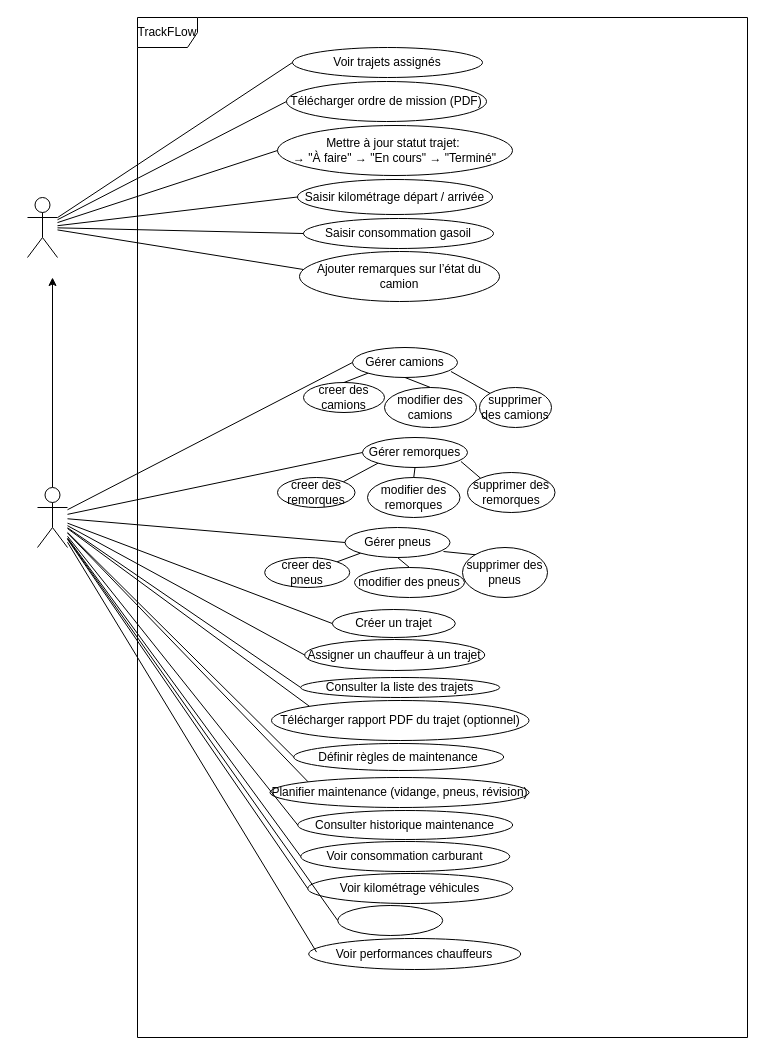
Some shapes in this 765 by 1055 pixel diagram are drawn without their labels. Here are the shapes that lost their labels. From the top down, the centre of each, then its label:
At point 42,227: "chauffeur".
At point 52,517: "admin".
At point 390,920: "Voir état pneus".
